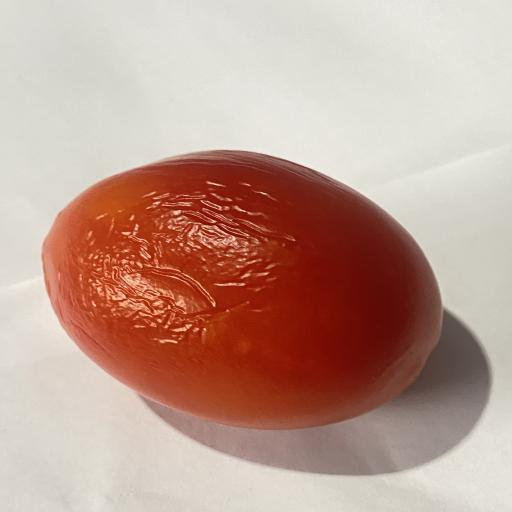spoiled: (43, 151, 442, 429)
